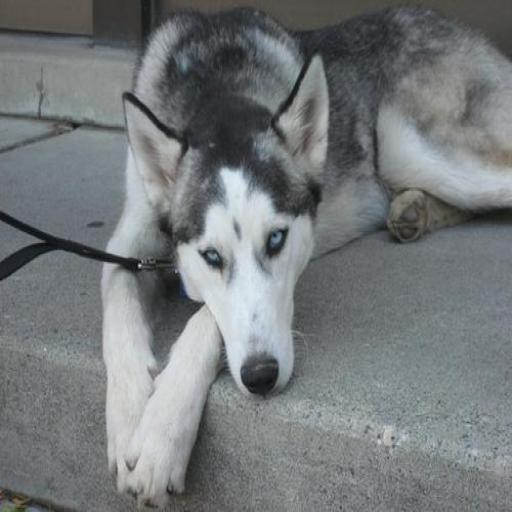dog_face: (120, 68, 332, 400)
